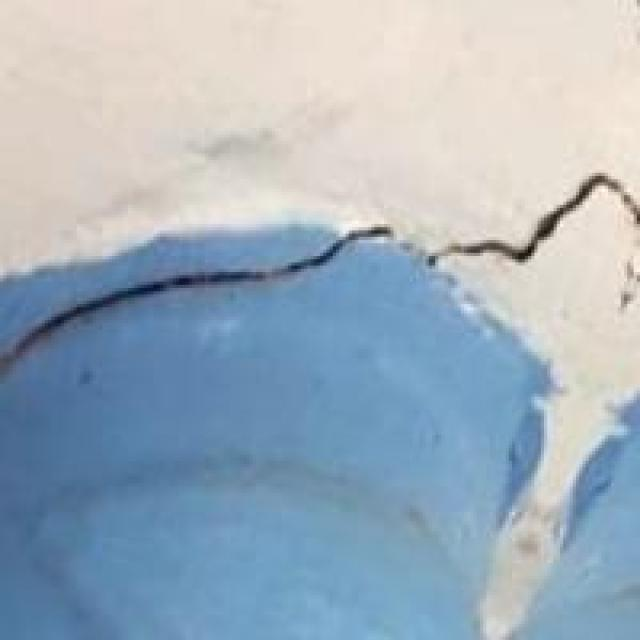Crack: (0, 170, 637, 432)
